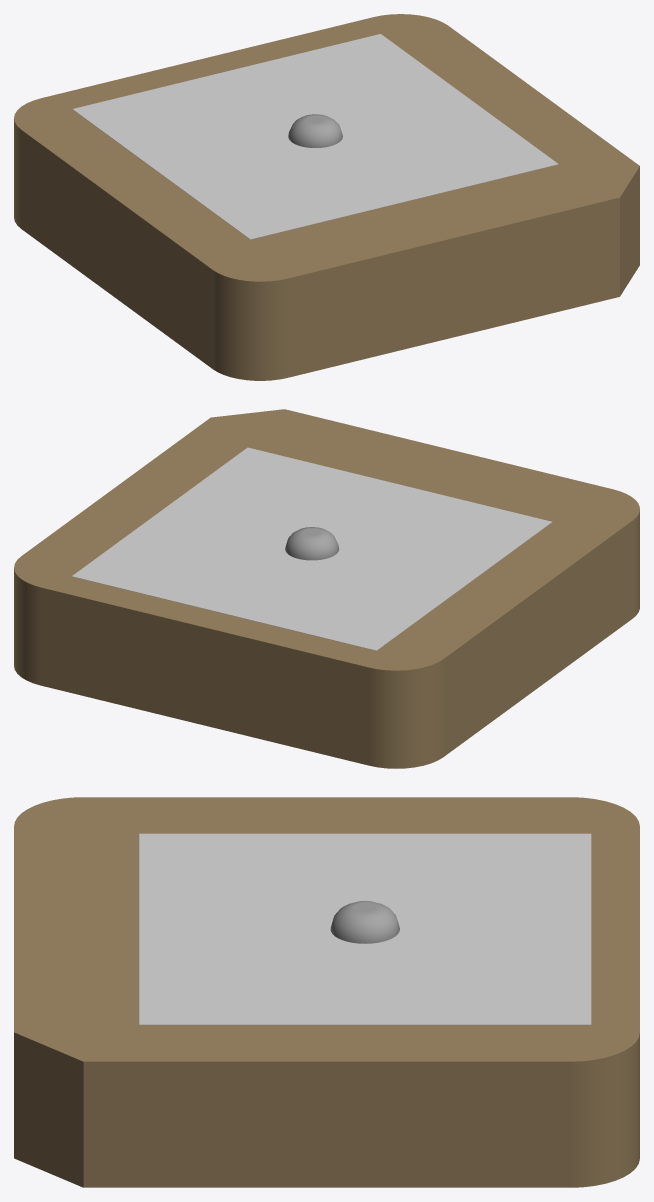
File: BY-GPS_Glonass-184.glb
The picture shows the model from 3 angles, top to bottom: view 1: azimuth 30°, elevation 25°; view 2: azimuth 150°, elevation 25°; view 3: azimuth 270°, elevation 25°; orthographic projection. The views are drawn at different scales.
Parts seen in each view (by area): view 1: SOLID (×3); view 2: SOLID (×3); view 3: SOLID (×3).
Part boxes in pixels (x1,y1,x2,y2): SOLID (×3): (14, 14, 639, 380); SOLID (×3): (14, 409, 639, 768); SOLID (×3): (14, 797, 639, 1187).
Bounding box in the file's own units: 0.018 × 0.008 × 0.018.
